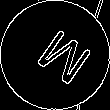M_SW: (21, 21, 89, 89)
